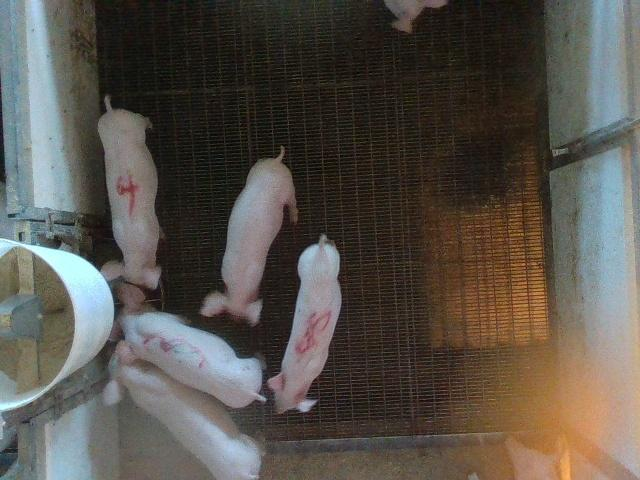pig-3: (112, 282, 265, 407)
pig-4: (98, 96, 161, 288)
pig-5: (268, 235, 341, 413)
